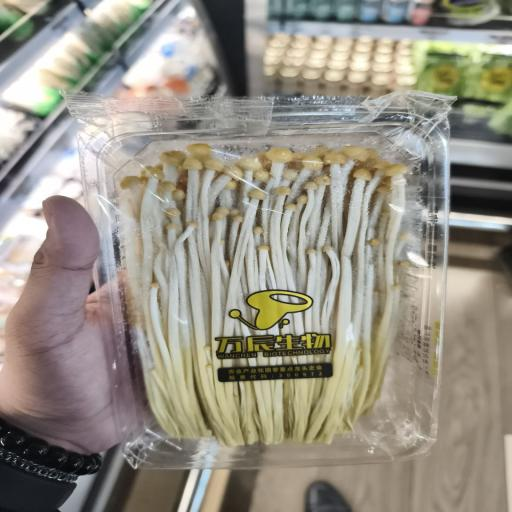Enoki Mushroom: (105, 134, 426, 448)
